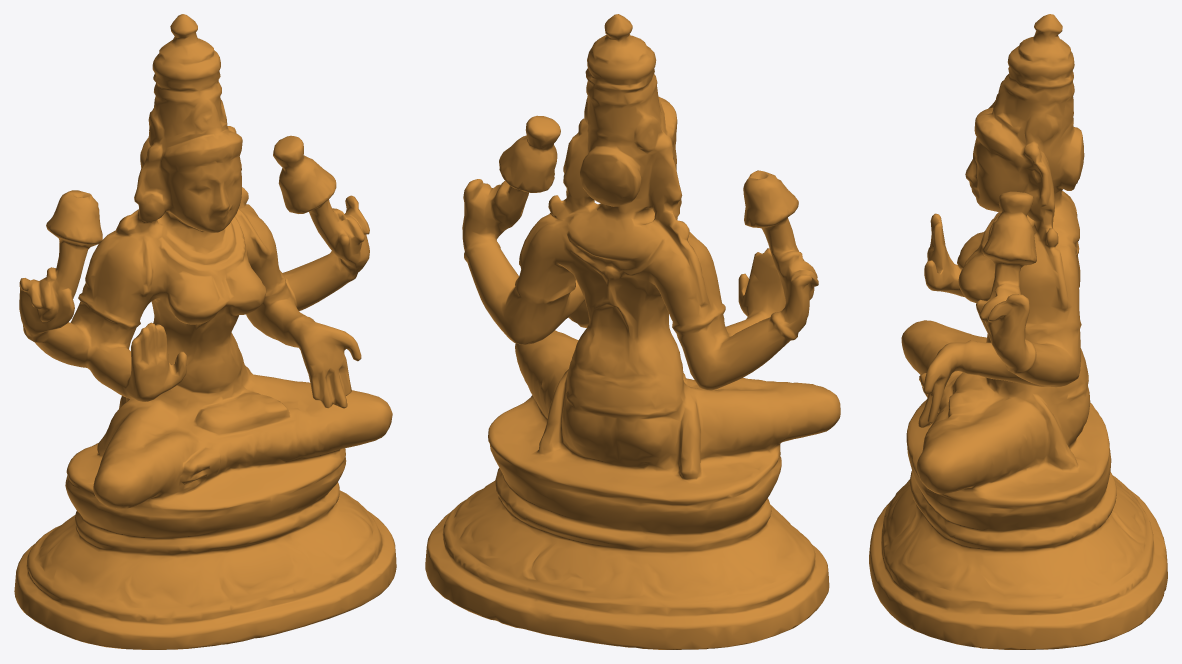
The model's file is Vainavam_Lakshmi_14.glb.
The picture shows the model from 3 angles, left to right: view 1: azimuth 30°, elevation 25°; view 2: azimuth 150°, elevation 25°; view 3: azimuth 270°, elevation 25°; orthographic projection. The views are drawn at different scales.
Parts seen in each view (by area): view 1: Vainavam_Lakshmi_14; view 2: Vainavam_Lakshmi_14; view 3: Vainavam_Lakshmi_14.
Boxes of the visible parts, x1,y1,x2,y2 form: Vainavam_Lakshmi_14: (14, 14, 396, 649); Vainavam_Lakshmi_14: (425, 14, 840, 649); Vainavam_Lakshmi_14: (869, 14, 1167, 649).
Size of the model in its own units: 0.3383 by 0.5121 by 0.251.
